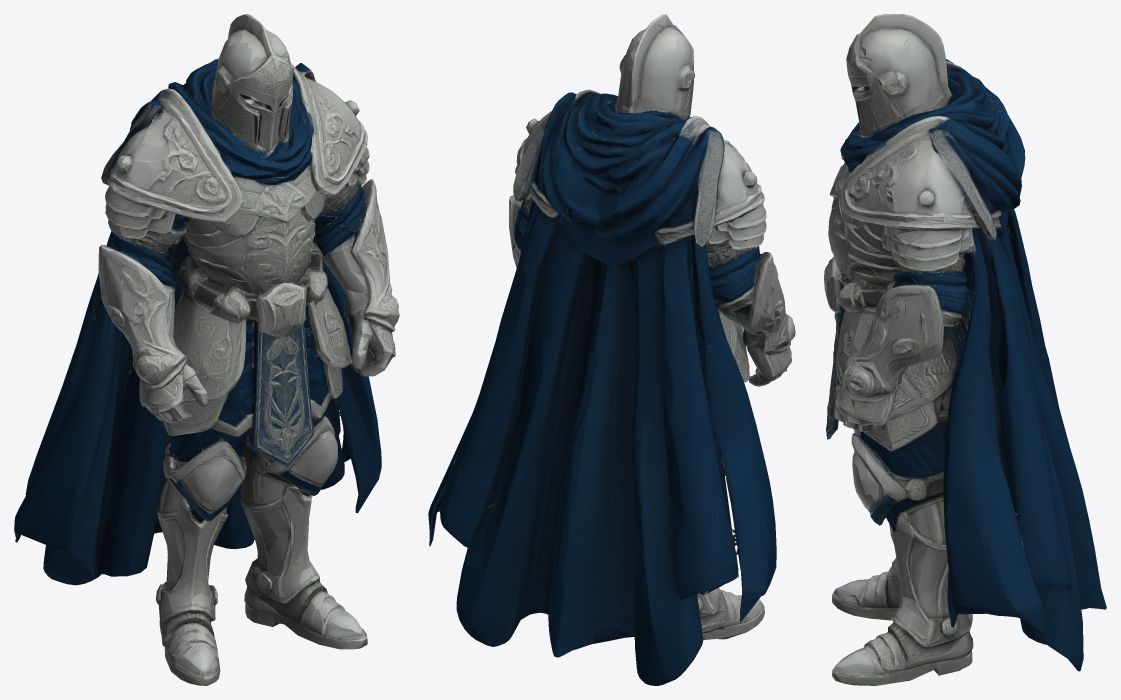
The model's file is savasci.glb.
The picture shows the model from 3 angles, left to right: view 1: azimuth 30°, elevation 25°; view 2: azimuth 150°, elevation 25°; view 3: azimuth 270°, elevation 25°; orthographic projection. The views are drawn at different scales.
Bounding box in the file's own units: 1.12 × 1.9 × 0.7736.
Materials: 1 (1 with a texture image).
